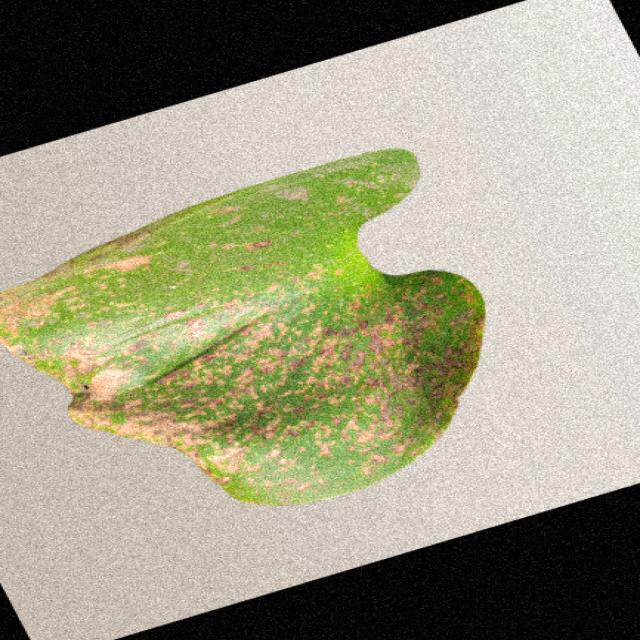daun berpenyakit bercak: (2, 149, 485, 504)
